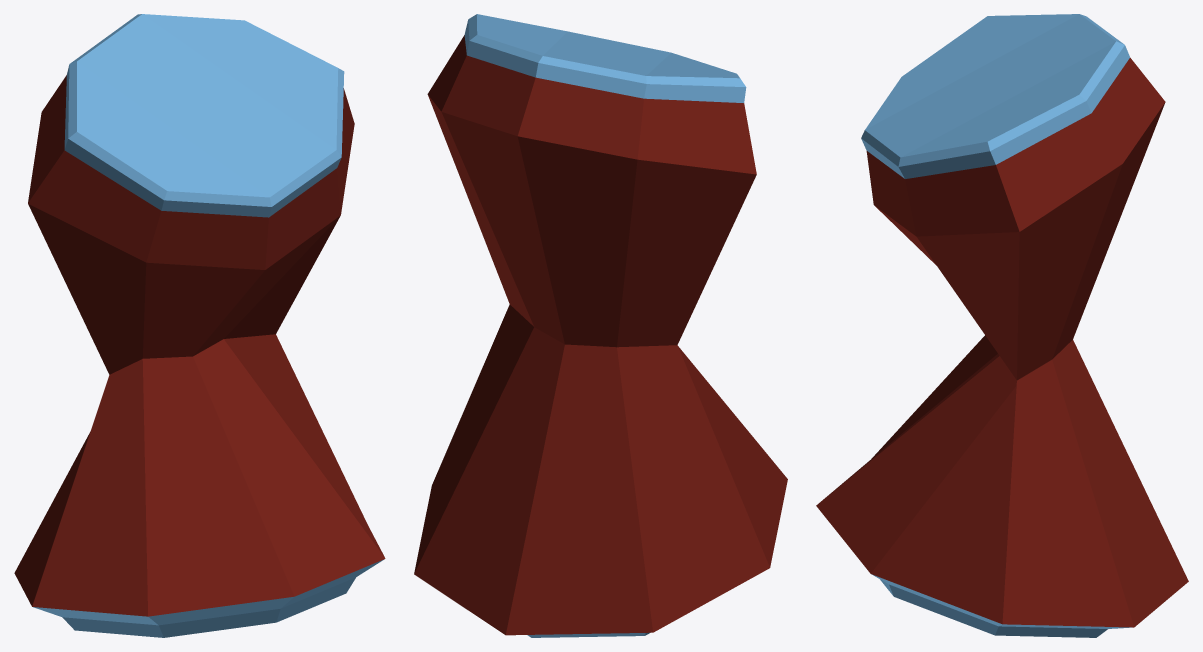
File: AntonioCenarioFase1.fbx_Lata.fbx
The picture shows the model from 3 angles, left to right: view 1: azimuth 30°, elevation 25°; view 2: azimuth 150°, elevation 25°; view 3: azimuth 270°, elevation 25°; orthographic projection. The views are drawn at different scales.
Visible parts, largest first — view 1: Lata; view 2: Lata; view 3: Lata.
Part boxes in pixels (left/top/right/bottom): Lata: left=14, top=14, right=385, bottom=637; Lata: left=414, top=14, right=787, bottom=637; Lata: left=816, top=14, right=1188, bottom=637.
Bounding box in the file's own units: 101 × 163 × 98.28.
